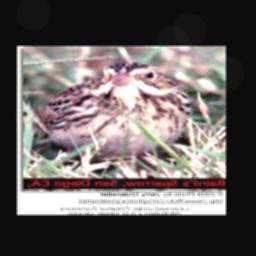Sparrow: (35, 61, 196, 175)
